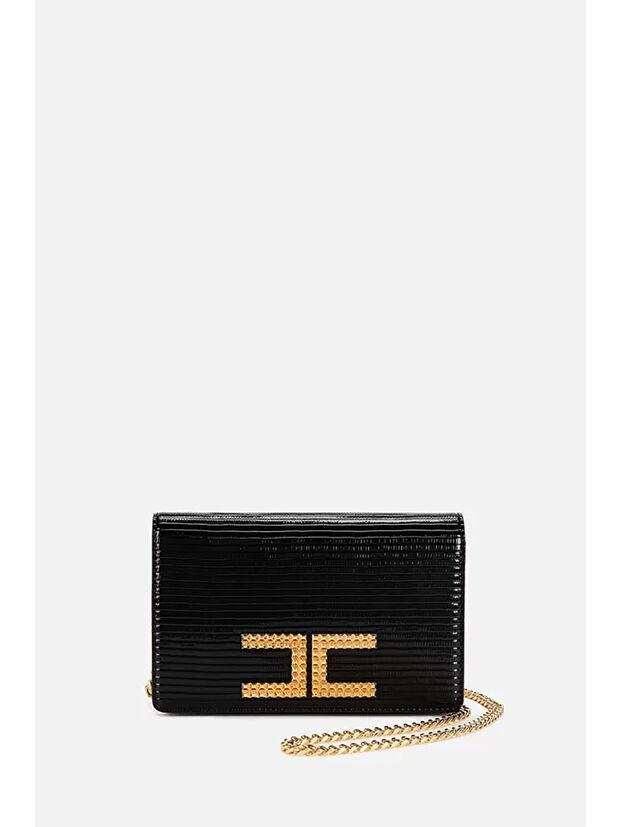ELISABETTA-FRANCHI: (238, 631, 380, 704)
